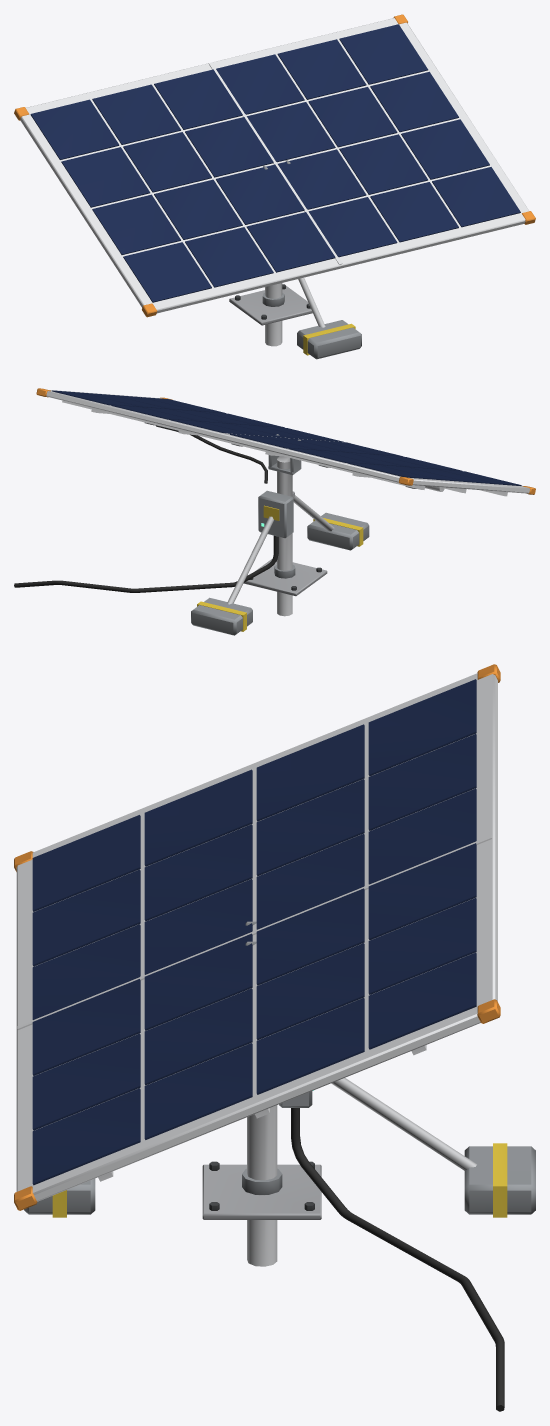
File: solar_panel.glb
3 views of the same model, one above another, from view 1: azimuth 30°, elevation 25°; view 2: azimuth 150°, elevation 25°; view 3: azimuth 270°, elevation 25° (orthographic). The views are drawn at different scales.
Parts seen in each view (by area): view 1: panel_mesh, solar_panel_mesh; view 2: panel_mesh, solar_panel_mesh; view 3: panel_mesh, solar_panel_mesh.
Boxes of the visible parts, x1,y1,x2,y2 form: panel_mesh: [14, 14, 535, 317]; solar_panel_mesh: [229, 160, 361, 359]; panel_mesh: [36, 388, 535, 496]; solar_panel_mesh: [14, 434, 369, 635]; panel_mesh: [14, 664, 500, 1210]; solar_panel_mesh: [24, 921, 535, 1411].
Size of the model in its own units: 3.62 by 1.97 by 2.19.
